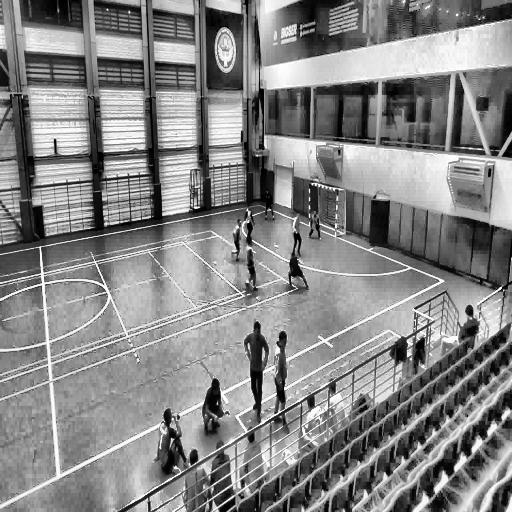player: (243, 321, 269, 420), (157, 408, 185, 479), (272, 328, 289, 430), (287, 252, 310, 292), (245, 234, 258, 292), (242, 202, 256, 245), (291, 210, 304, 256), (308, 206, 322, 242), (232, 217, 242, 263), (264, 188, 275, 221)
